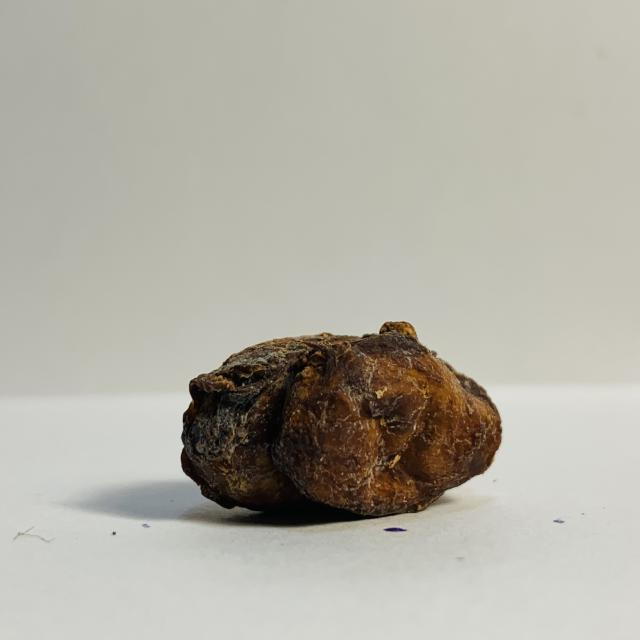Agglomerated_cocoabeans: (63, 274, 545, 570)
